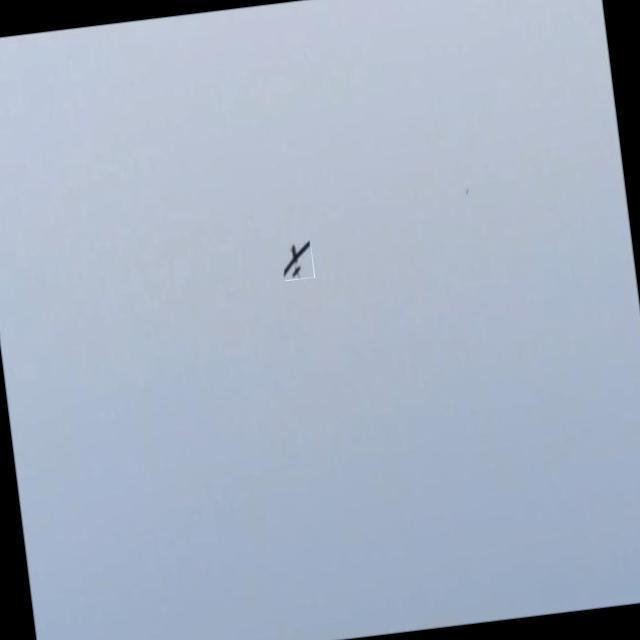iha: (269, 224, 316, 286)
